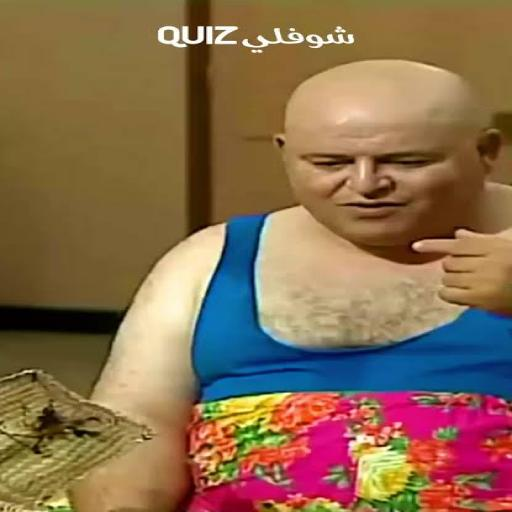sboui: (276, 61, 499, 247)
